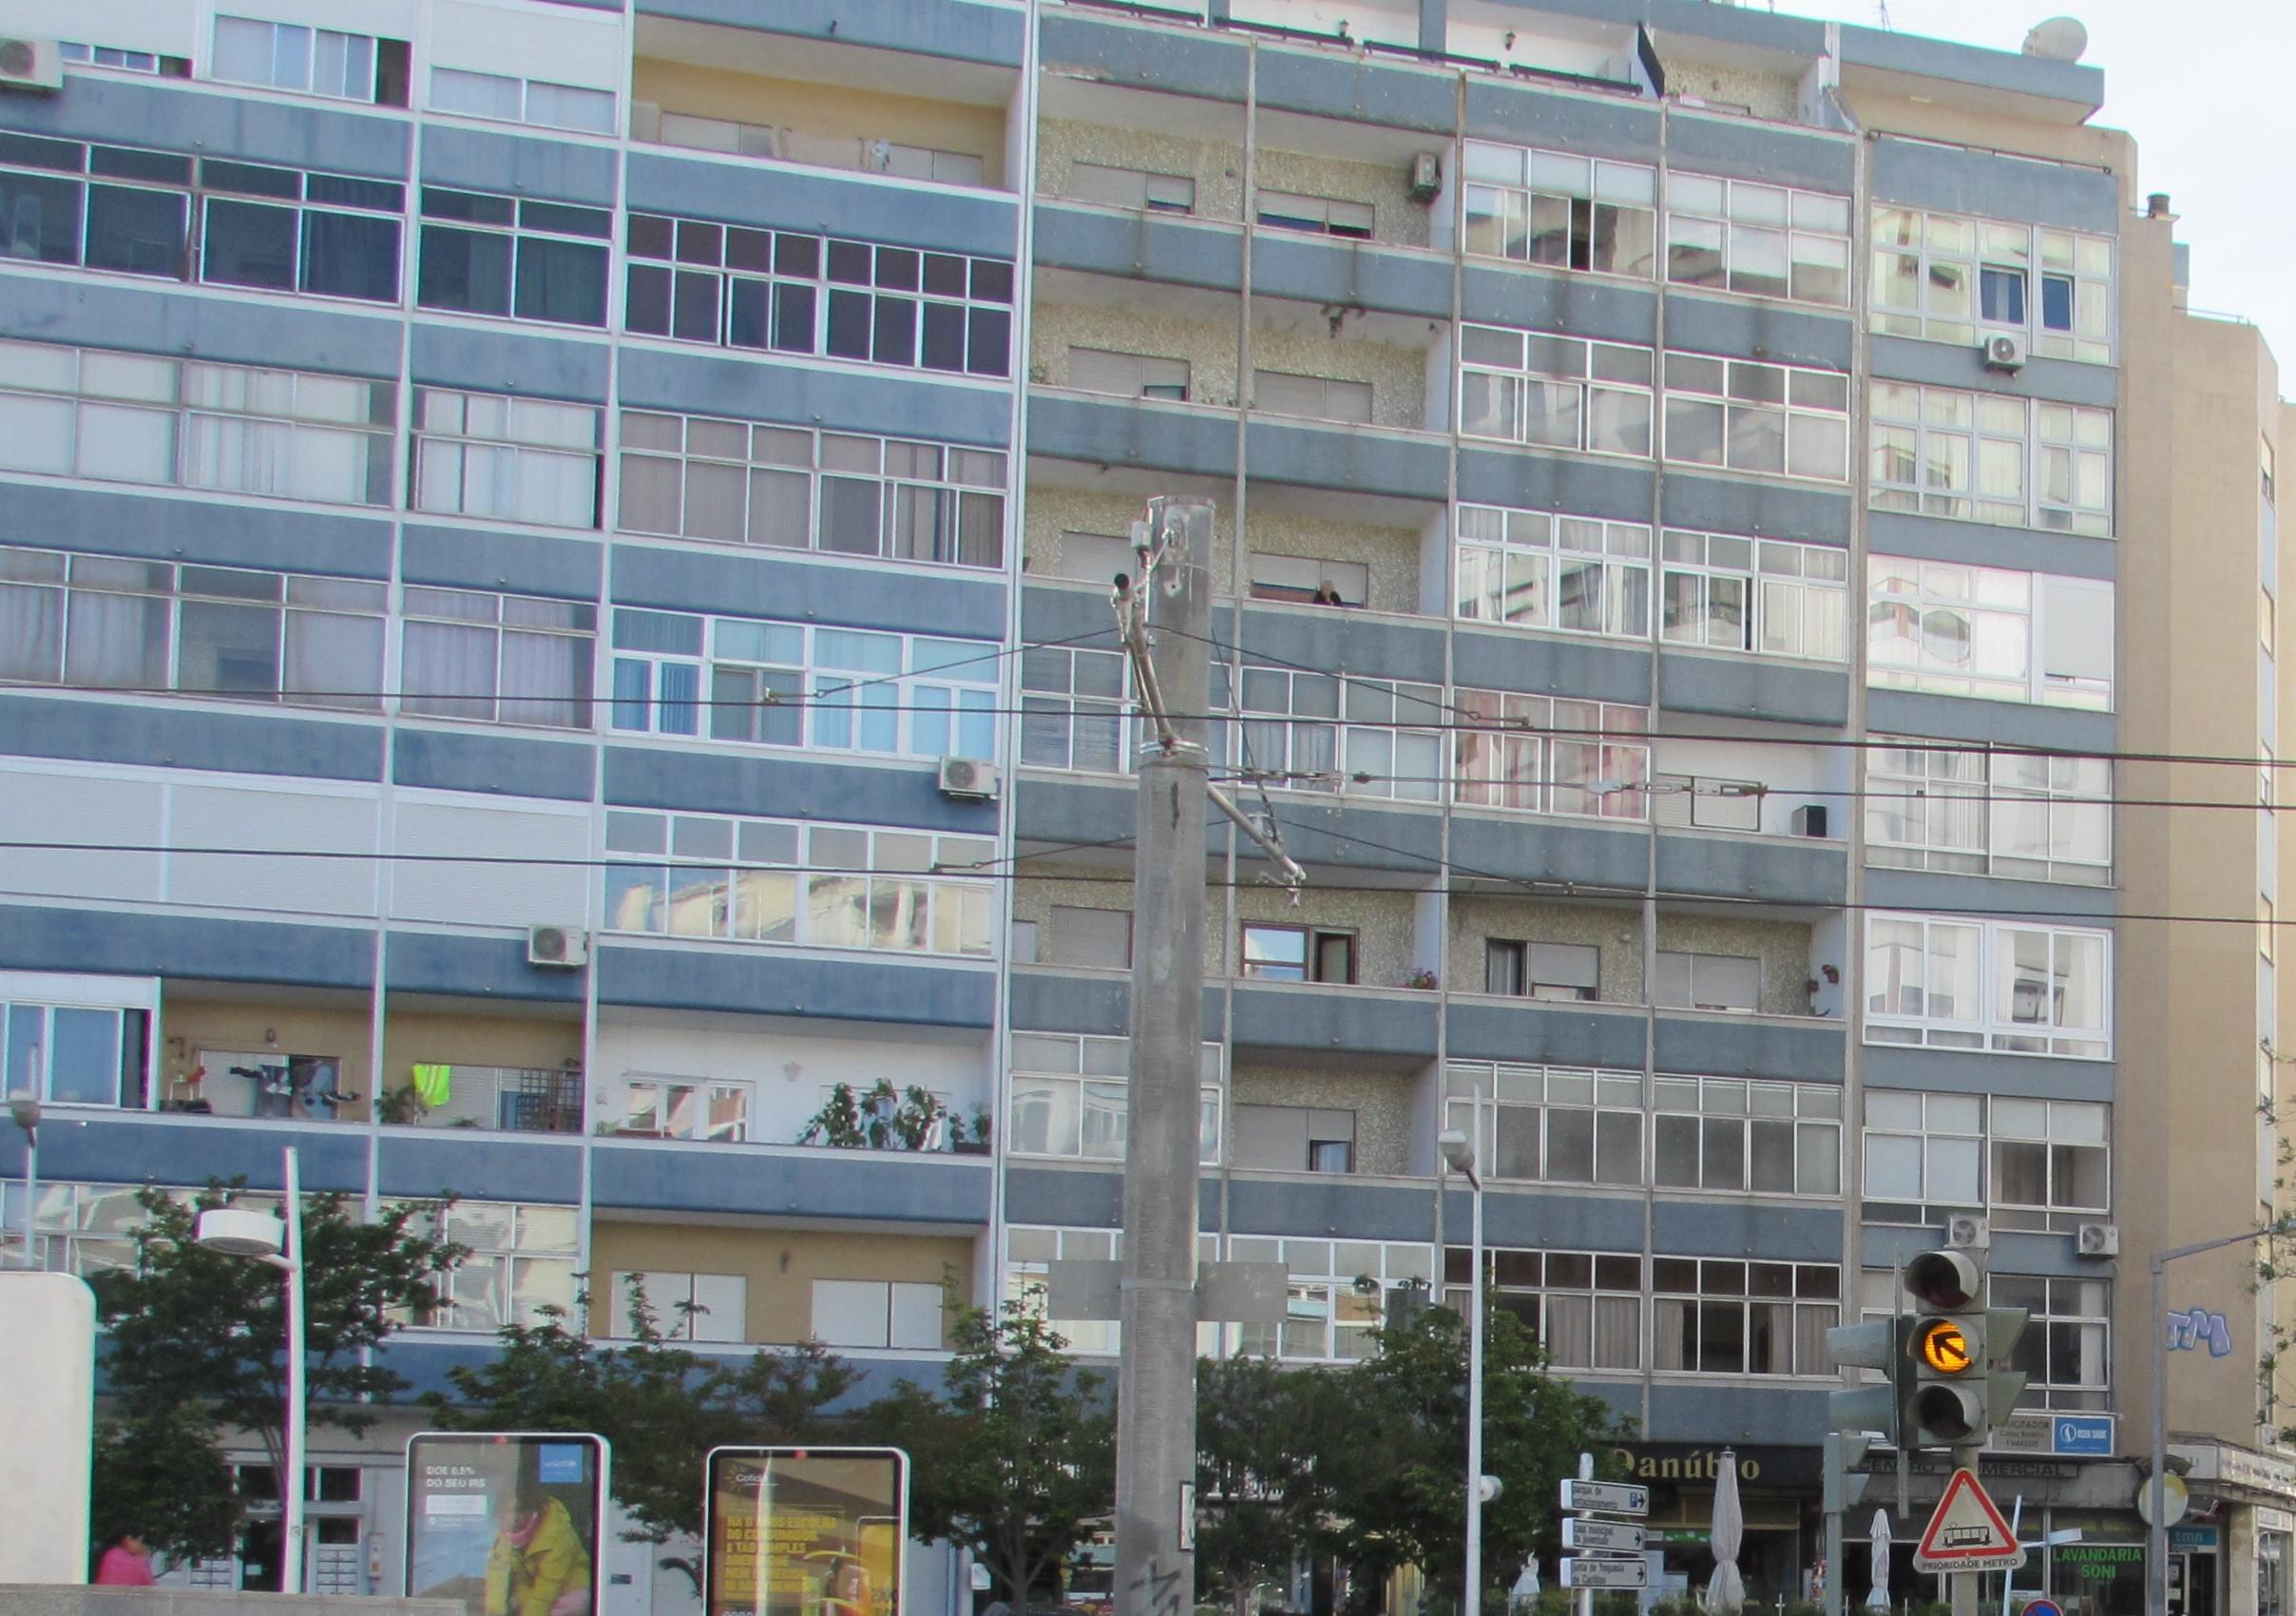yellow_light: (1906, 1249, 1988, 1446)
